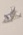microplastic: (1, 6, 22, 27)
